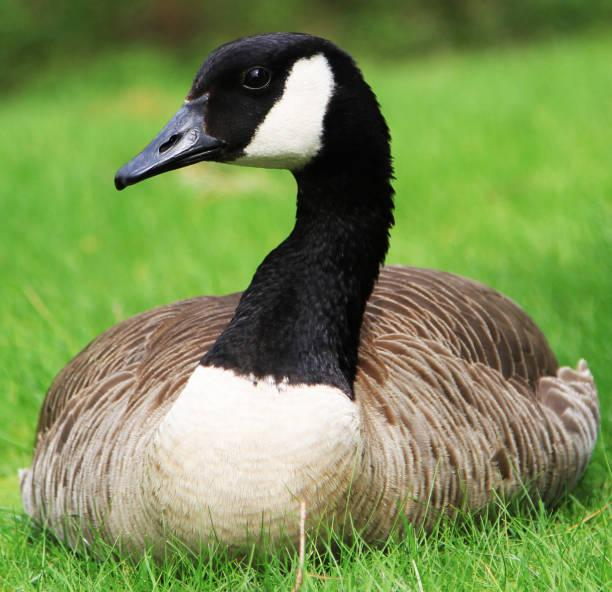Canadian-Goose: (31, 24, 597, 550)
